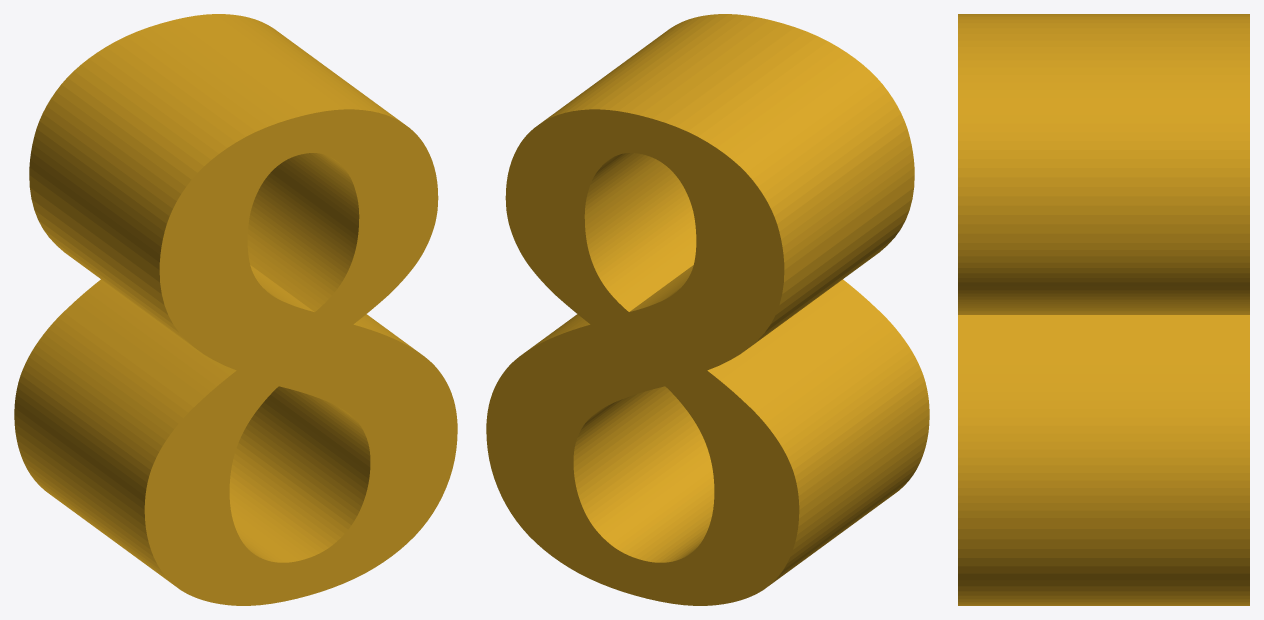
File: tinker.obj
3 renders of one model, left to right at view 1: azimuth 30°, elevation 25°; view 2: azimuth 150°, elevation 25°; view 3: azimuth 270°, elevation 25°, orthographic. The views are drawn at different scales.
Visible parts, largest first — view 1: obj_0; view 2: obj_0; view 3: obj_0.
Boxes of the visible parts, box(x1,y1,x2,y2) form: obj_0: box(14, 14, 457, 605); obj_0: box(486, 14, 929, 605); obj_0: box(958, 14, 1249, 605).
Size of the model in its own units: 13.86 by 20.38 by 10.
